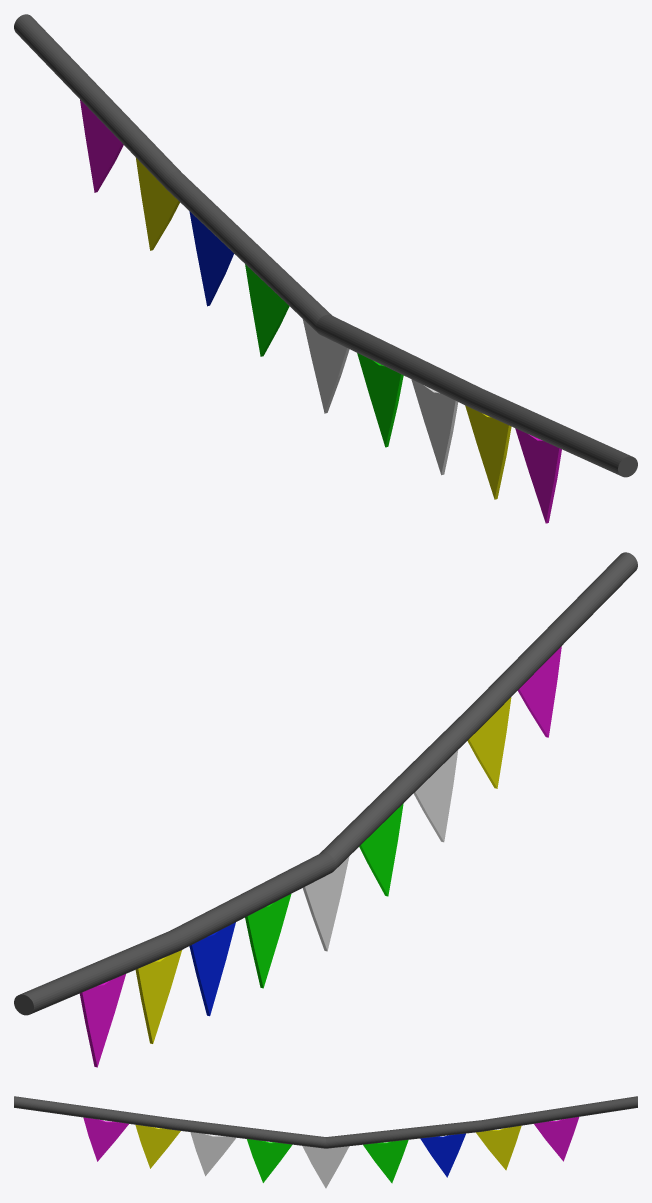
Rendered from streamers.fbx.
3 renders of one model, top to bottom at view 1: azimuth 30°, elevation 25°; view 2: azimuth 150°, elevation 25°; view 3: azimuth 270°, elevation 25°, orthographic. The views are drawn at different scales.
Parts seen in each view (by area): view 1: Rope, Cube.005, Cube.010, Cube.002, Cube.008, Cube, Cube.004, Cube.003, Cube.007, Cube.009; view 2: Rope, Cube.007, Cube.009, Cube.004, Cube.003, Cube, Cube.005, Cube.002, Cube.010, Cube.008; view 3: Rope, Cube.005, Cube.010, Cube.004, Cube.007, Cube.009, Cube.002, Cube.003, Cube.008, Cube.
Boxes of the visible parts, x1=… form: Rope: x1=14, y1=14, x2=637, y2=477; Cube.005: x1=411, y1=379, x2=458, y2=475; Cube.010: x1=515, y1=428, x2=561, y2=523; Cube.002: x1=357, y1=353, x2=403, y2=447; Cube.008: x1=465, y1=405, x2=511, y2=499; Cube: x1=302, y1=319, x2=349, y2=413; Cube.004: x1=189, y1=211, x2=233, y2=306; Cube.003: x1=245, y1=264, x2=289, y2=356; Cube.007: x1=135, y1=157, x2=179, y2=250; Cube.009: x1=80, y1=100, x2=123, y2=192; Rope: x1=14, y1=552, x2=637, y2=1015; Cube.007: x1=135, y1=950, x2=181, y2=1043; Cube.009: x1=79, y1=974, x2=125, y2=1067; Cube.004: x1=189, y1=922, x2=235, y2=1016; Cube.003: x1=245, y1=894, x2=291, y2=988; Cube: x1=302, y1=856, x2=349, y2=951; Cube.005: x1=413, y1=750, x2=458, y2=842; Cube.002: x1=359, y1=803, x2=403, y2=896; Cube.010: x1=517, y1=646, x2=561, y2=737; Cube.008: x1=467, y1=697, x2=511, y2=788; Rope: x1=14, y1=1096, x2=637, y2=1148; Cube.005: x1=190, y1=1132, x2=236, y2=1176; Cube.010: x1=83, y1=1117, x2=128, y2=1161; Cube.004: x1=420, y1=1133, x2=465, y2=1177; Cube.007: x1=476, y1=1125, x2=521, y2=1170; Cube.009: x1=534, y1=1117, x2=579, y2=1161; Cube.002: x1=247, y1=1139, x2=292, y2=1182; Cube.003: x1=363, y1=1139, x2=408, y2=1183; Cube.008: x1=135, y1=1124, x2=180, y2=1168; Cube: x1=302, y1=1146, x2=349, y2=1188.
Bounding box in the file's own units: 29.77 × 253 × 1559.
